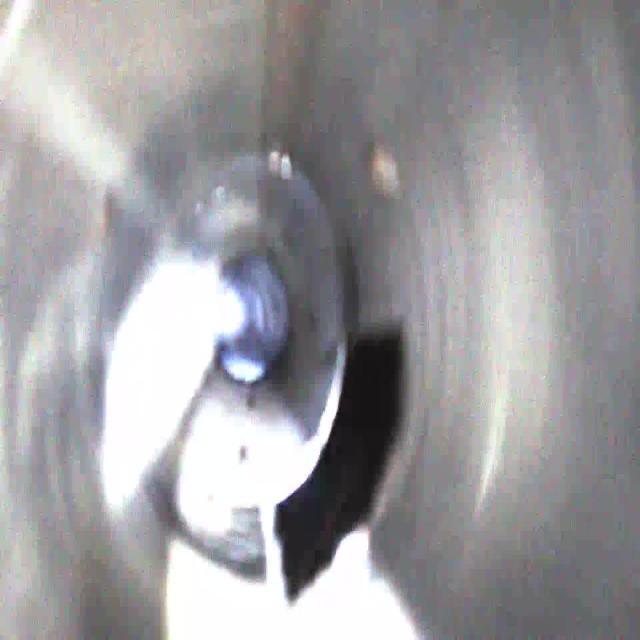hole: (271, 300, 424, 618)
